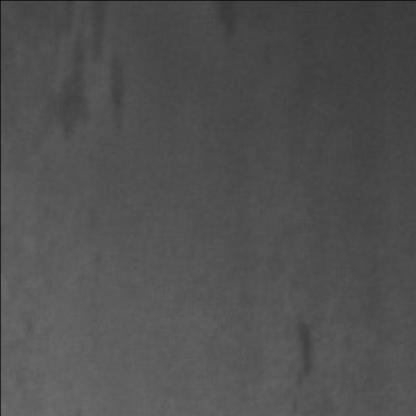inclusion: (42, 8, 131, 148), (281, 308, 320, 395)
